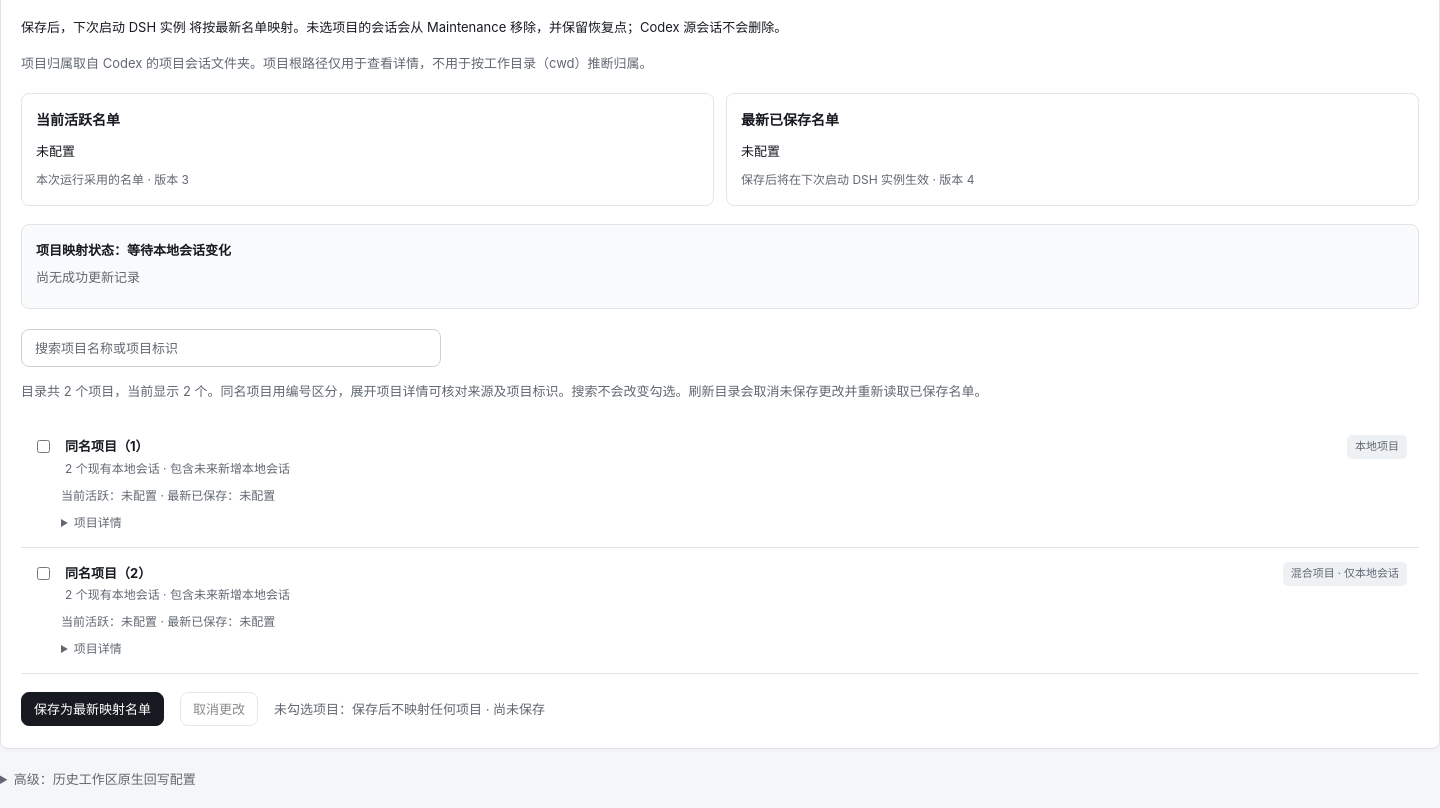
Test: Codex project mapping › can explicitly save no projects from unconfigured state without treating it as all projects
(page scrolled)
Expected: the element named "当前活跃名单" shows "未配置", [36, 143, 75, 159]
Expected: the button "取消更改" is disabled, [180, 692, 258, 726]
Click the button "保存为最新映射名单": [92, 709] box [21, 692, 164, 726]
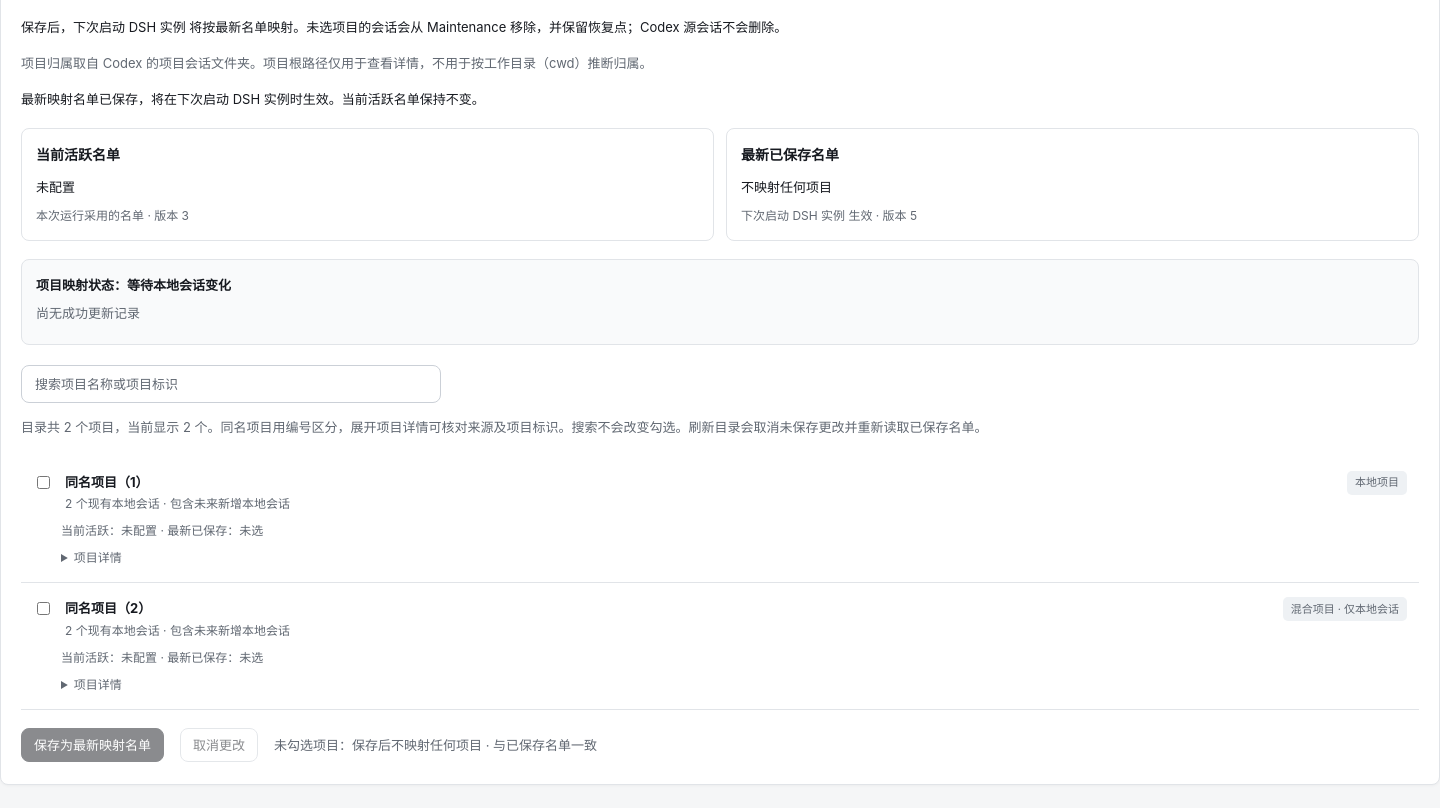
Expected: the element named "当前活跃名单" shows "未配置", [36, 179, 75, 195]
Expected: the element named "最新已保存名单" shows "不映射任何项目", [741, 179, 832, 195]
